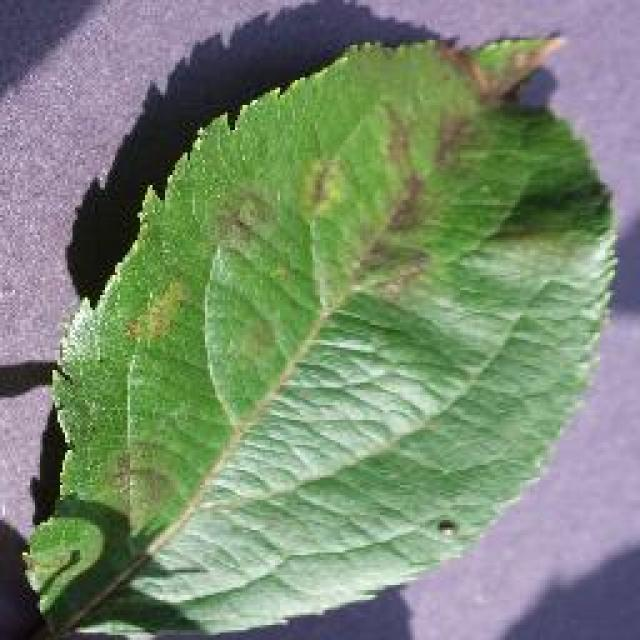apple scab disease: (20, 25, 620, 637)
